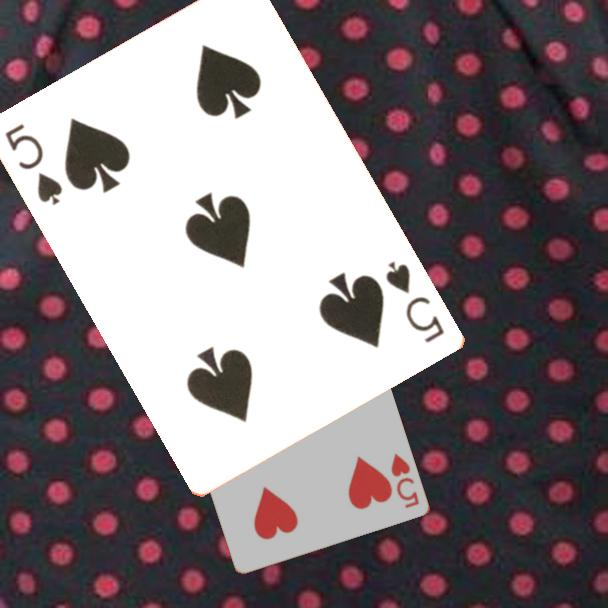h05: (387, 449, 422, 511)
s05: (382, 257, 448, 346), (2, 120, 66, 209)
